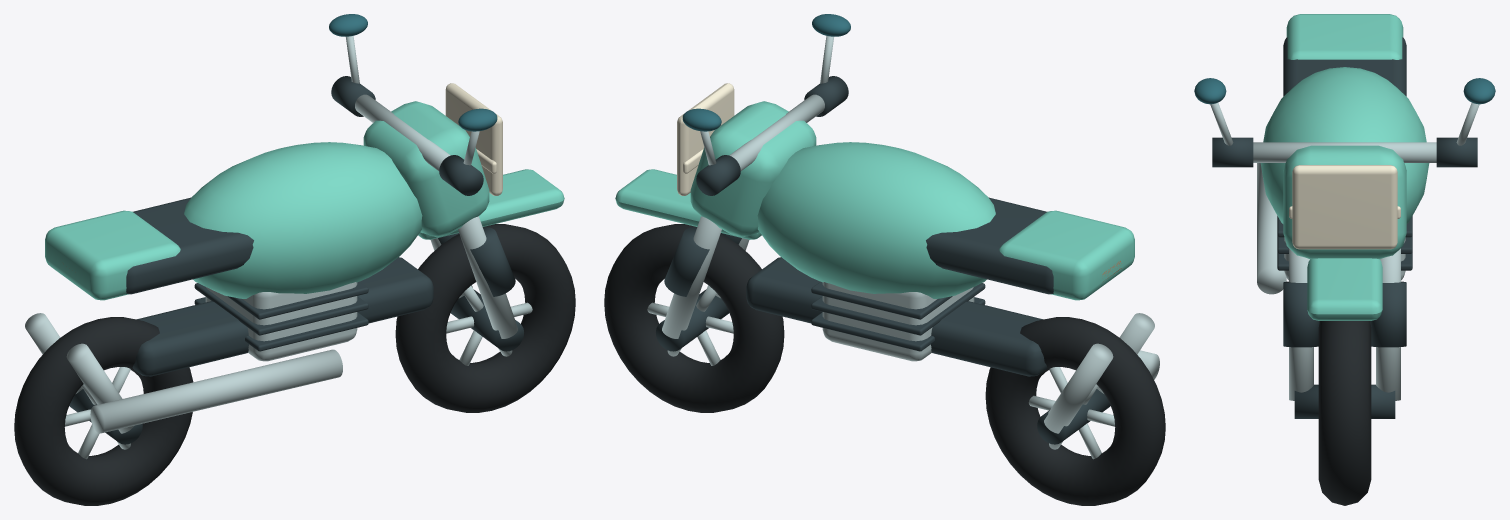
Rendered from dirt.glb.
3 renders of one model, left to right at view 1: azimuth 30°, elevation 25°; view 2: azimuth 150°, elevation 25°; view 3: azimuth 270°, elevation 25°, orthographic. The views are drawn at different scales.
Visible parts, largest first — view 1: LR Fuel tank.004, LR Tire.011, LR Tire.010, LR Chassis.005, LR Front fairing.004, LR Exhaust.005, LR Tail fairing.004, LR Seat.005, LR Engine.005, LR High dirt fender, LR Number plate, LR Fork.022 (+13 smaller); view 2: LR Fuel tank.004, LR Tire.010, LR Tire.011, LR Chassis.005, LR Front fairing.004, LR Tail fairing.004, LR Seat.005, LR Engine.005, LR High dirt fender, LR Fork.021, LR Number plate, LR Fork.023 (+12 smaller); view 3: LR Fuel tank.004, LR Tire.011, LR Number plate, LR Tail fairing.004, LR High dirt fender, LR Front fairing.004, LR Seat.005, LR Exhaust.005, LR Handlebar.005, LR Fork boot, LR Fork boot.001, LR Fork.022 (+10 smaller).
Part boxes in pixels (x1=…): LR Fuel tank.004: x1=184, y1=142, x2=422, y2=298; LR Tire.011: x1=395, y1=224, x2=575, y2=412; LR Tire.010: x1=14, y1=317, x2=193, y2=505; LR Chassis.005: x1=132, y1=257, x2=433, y2=376; LR Front fairing.004: x1=363, y1=101, x2=489, y2=237; LR Exhaust.005: x1=90, y1=349, x2=342, y2=433; LR Tail fairing.004: x1=45, y1=210, x2=180, y2=300; LR Seat.005: x1=126, y1=197, x2=253, y2=294; LR Engine.005: x1=205, y1=282, x2=357, y2=361; LR High dirt fender: x1=418, y1=169, x2=564, y2=239; LR Number plate: x1=445, y1=83, x2=502, y2=195; LR Fork.022: x1=458, y1=216, x2=517, y2=338; LR Fuel tank.004: x1=757, y1=142, x2=995, y2=298; LR Tire.010: x1=985, y1=317, x2=1165, y2=505; LR Tire.011: x1=604, y1=224, x2=784, y2=412; LR Chassis.005: x1=746, y1=257, x2=1047, y2=376; LR Front fairing.004: x1=690, y1=101, x2=816, y2=237; LR Tail fairing.004: x1=999, y1=210, x2=1134, y2=300; LR Seat.005: x1=926, y1=197, x2=1053, y2=294; LR Engine.005: x1=822, y1=282, x2=974, y2=361; LR High dirt fender: x1=615, y1=169, x2=761, y2=239; LR Fork.021: x1=1044, y1=343, x2=1113, y2=433; LR Number plate: x1=677, y1=83, x2=734, y2=195; LR Fork.023: x1=662, y1=216, x2=721, y2=338; LR Fuel tank.004: x1=1260, y1=67, x2=1429, y2=223; LR Tire.011: x1=1318, y1=321, x2=1371, y2=505; LR Number plate: x1=1292, y1=165, x2=1397, y2=249; LR Tail fairing.004: x1=1286, y1=14, x2=1403, y2=59; LR High dirt fender: x1=1307, y1=258, x2=1382, y2=320; LR Front fairing.004: x1=1283, y1=145, x2=1406, y2=259; LR Seat.005: x1=1283, y1=37, x2=1406, y2=96; LR Exhaust.005: x1=1257, y1=163, x2=1286, y2=294; LR Handlebar.005: x1=1253, y1=142, x2=1436, y2=162; LR Fork boot: x1=1283, y1=281, x2=1319, y2=347; LR Fork boot.001: x1=1370, y1=281, x2=1406, y2=347; LR Fork.022: x1=1289, y1=248, x2=1313, y2=400.
Bounding box in the file's own units: 2.91 × 1.82 × 1.32.
